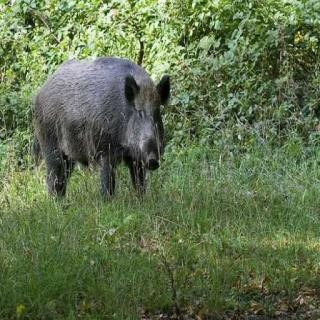Pig: (19, 37, 198, 227)
